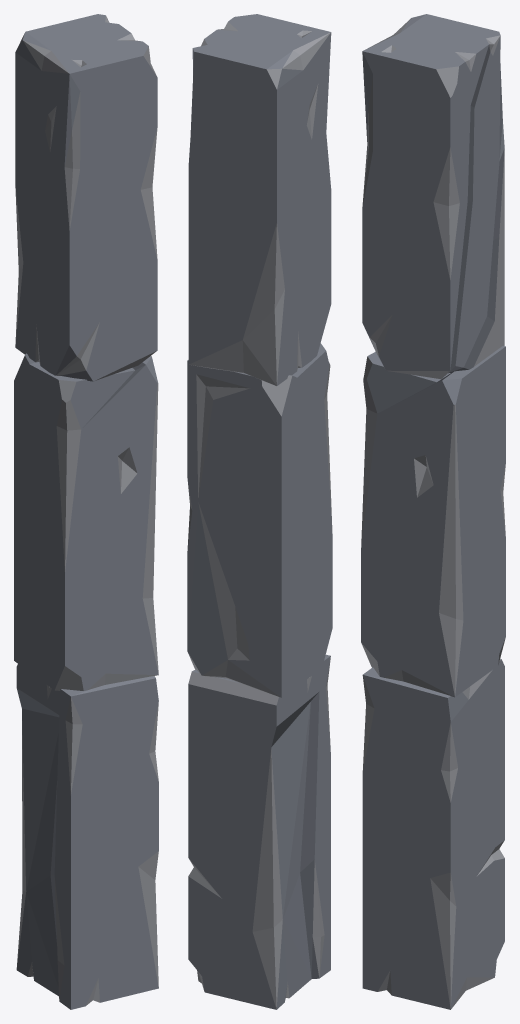
Rendered from mesh_stone_pillar.fbx.
The picture shows the model from 3 angles, left to right: view 1: azimuth 30°, elevation 25°; view 2: azimuth 150°, elevation 25°; view 3: azimuth 330°, elevation 25°; orthographic projection.
Parts seen in each view (by area): view 1: mesh_stone_pillar; view 2: mesh_stone_pillar; view 3: mesh_stone_pillar.
Boxes of the visible parts, left/top/right/bottom form: mesh_stone_pillar: left=14, top=14, right=158, bottom=1009; mesh_stone_pillar: left=187, top=14, right=332, bottom=1009; mesh_stone_pillar: left=361, top=14, right=505, bottom=1009.
Bounding box in the file's own units: 0.21 × 2 × 0.2118.
